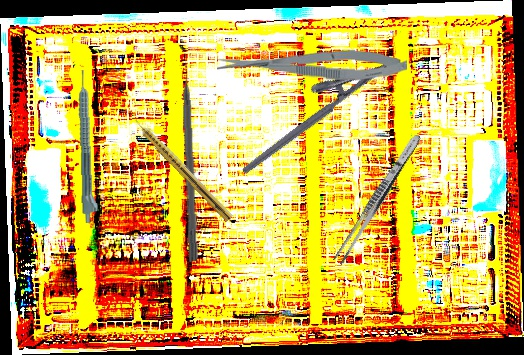Dressing Forceps: (332, 131, 424, 267)
Handpiece: (129, 113, 236, 223), (76, 69, 101, 223)
Micro Scissor: (216, 44, 408, 83)
Needle Holder: (225, 35, 402, 176)
Pusher: (180, 52, 201, 262)
